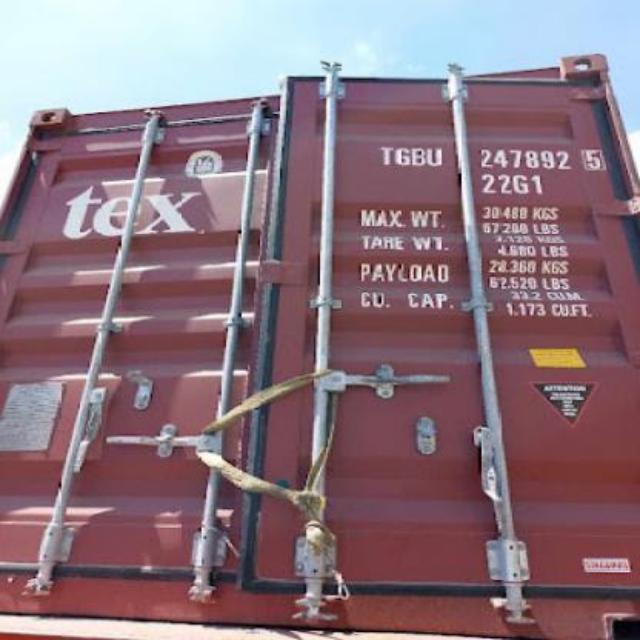2: (554, 150, 574, 170), (478, 146, 494, 170)
4: (494, 146, 510, 170)
5: (582, 148, 604, 170)
7: (508, 148, 524, 168)
8: (524, 146, 540, 170)
9: (540, 147, 552, 171)
B: (410, 146, 426, 168)
G: (396, 146, 409, 166)
T: (376, 146, 396, 166)
U: (426, 146, 444, 168)
